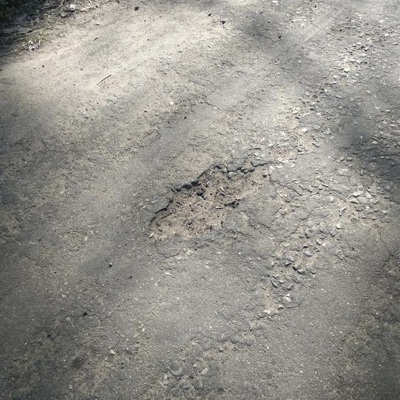pothole: (145, 160, 274, 241)
